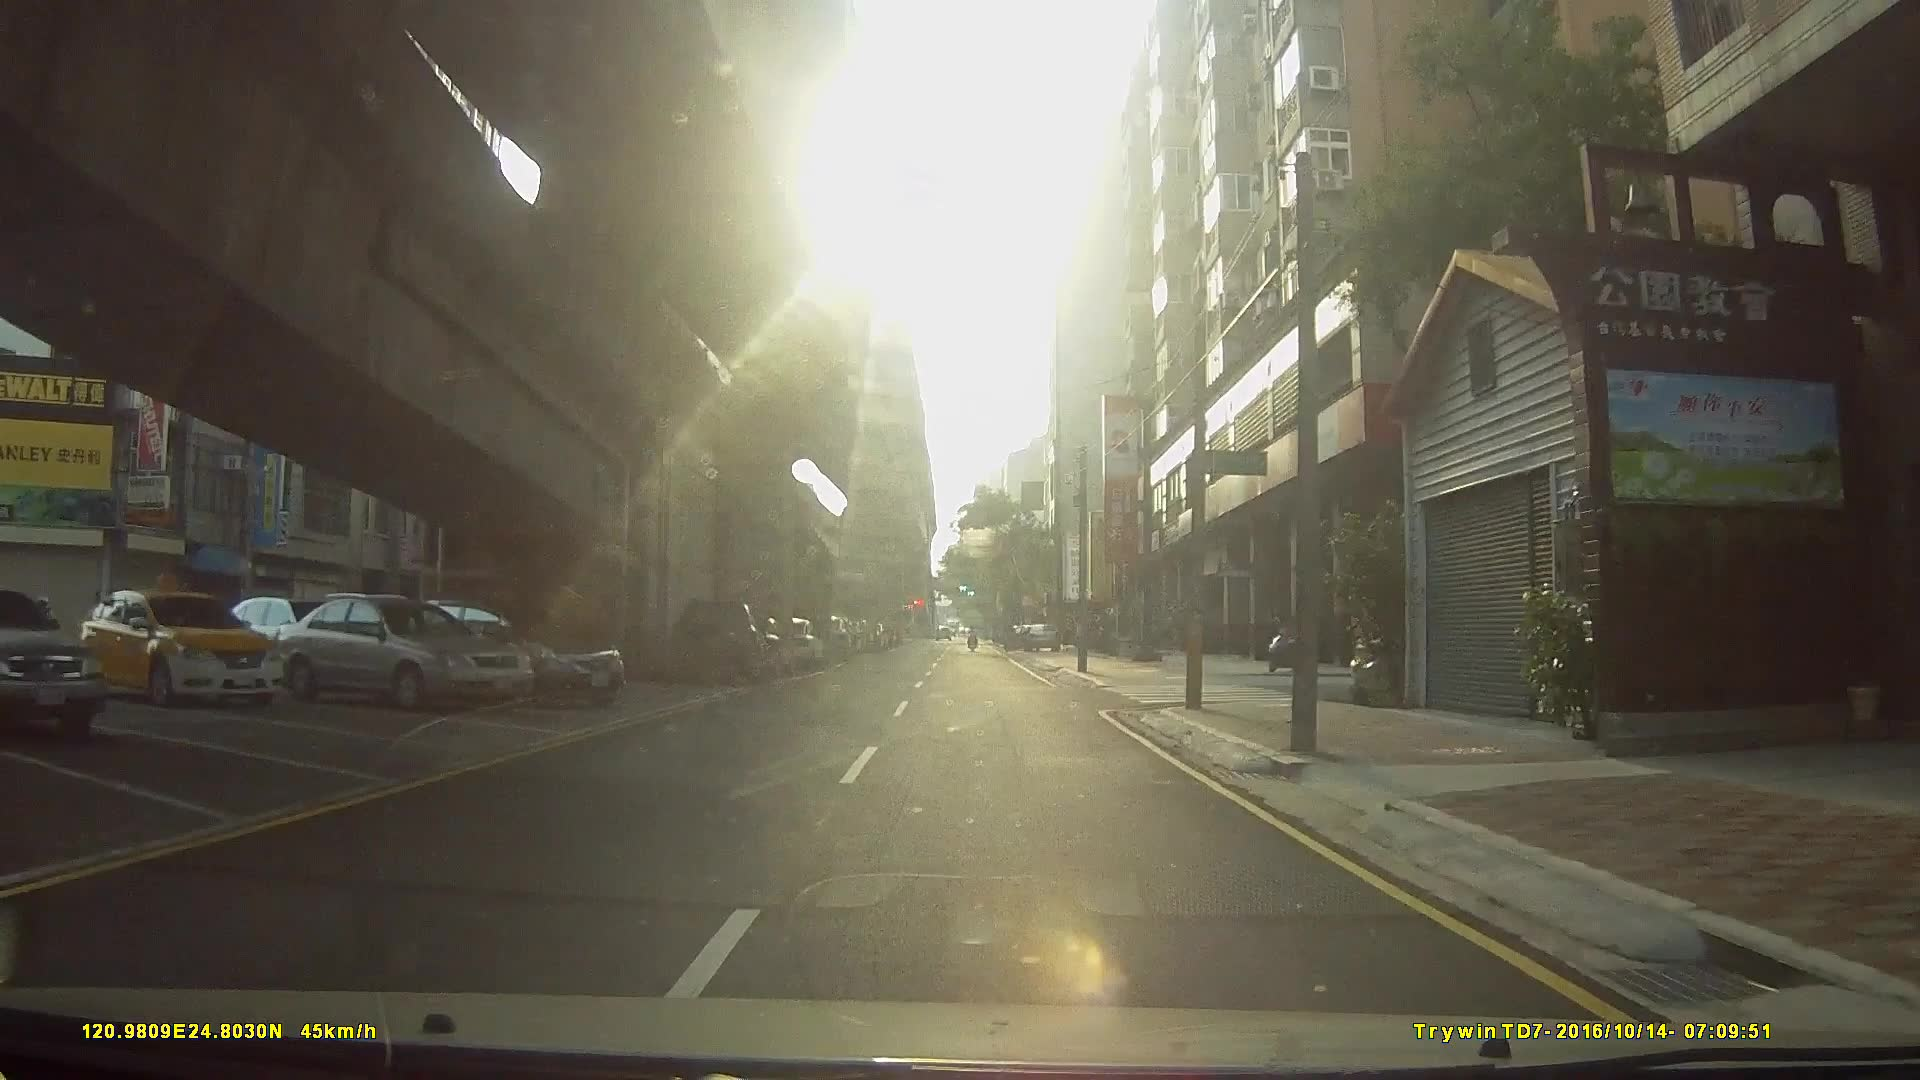vehicle: (270, 592, 535, 709), (378, 593, 628, 705), (75, 585, 284, 704), (0, 585, 107, 736), (669, 596, 769, 680)
